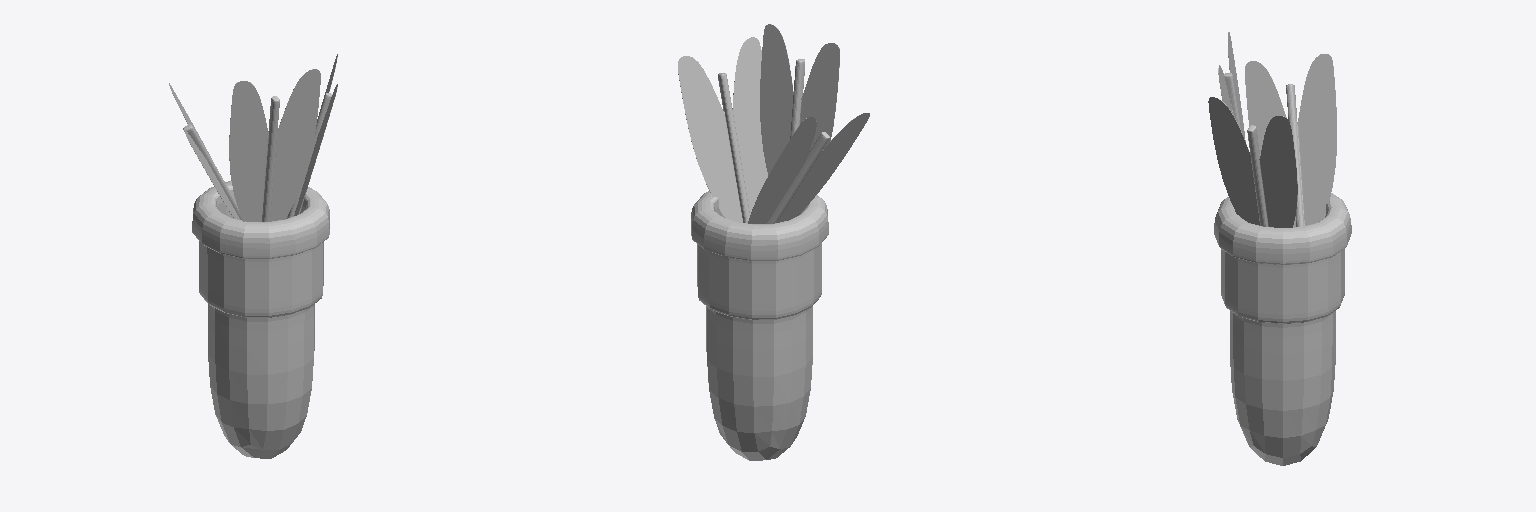
Rendered from SetA_Misc_10.obj.
3 renders of one model, left to right at view 1: azimuth 30°, elevation 25°; view 2: azimuth 150°, elevation 25°; view 3: azimuth 270°, elevation 25°, orthographic.
Parts seen in each view (by area): view 1: SetA_Misc_10; view 2: SetA_Misc_10; view 3: SetA_Misc_10.
Boxes of the visible parts, box(x1,y1,x2,y2) form: SetA_Misc_10: box(169, 54, 337, 458); SetA_Misc_10: box(678, 24, 869, 460); SetA_Misc_10: box(1208, 32, 1351, 465).
Bounding box in the file's own units: 0.1479 × 0.3368 × 0.1072.